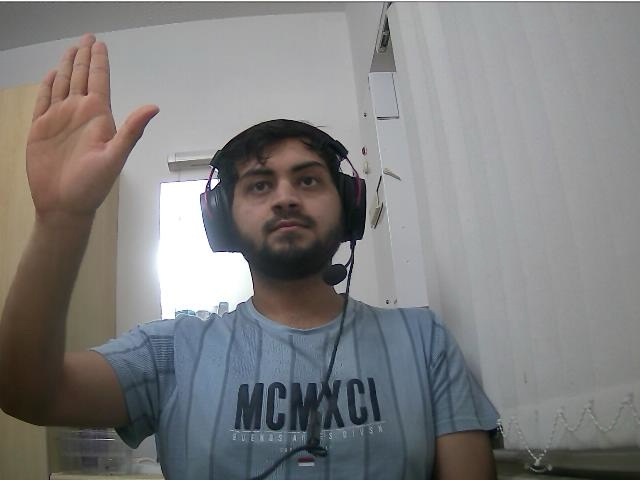up: (30, 31, 110, 208)
